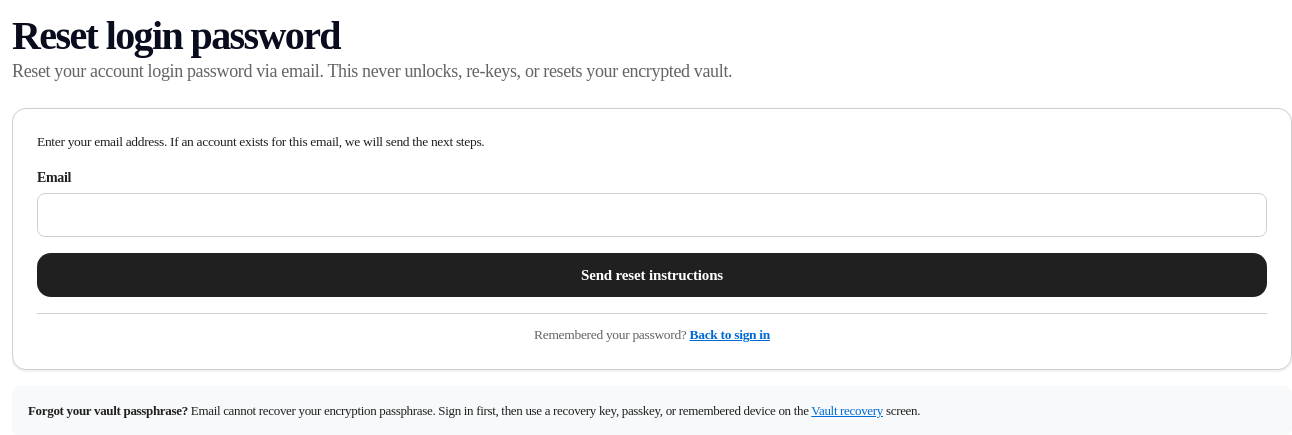
ForgotPasswordForm states and problem-code mapping (ADR 0006 §9.2) › switches to mail_unavailable view on 503 mail_delivery_unavailable
The width and height of the screenshot is (1292, 435).
Type "user@example.com" into the field labelled "Email" at (652, 215), box [37,193,1267,237]
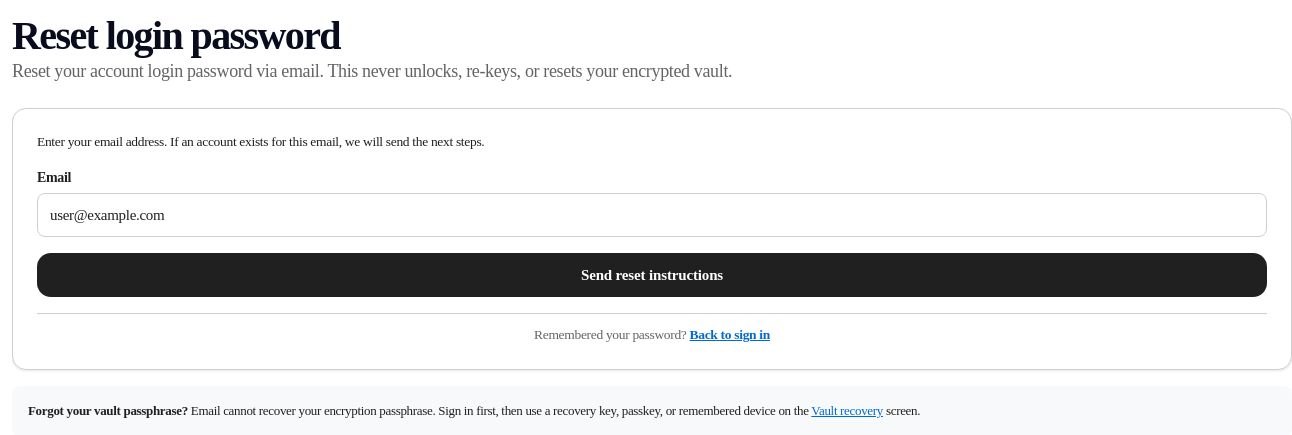
Submit the form labelled "email", box [12,108,1291,370]
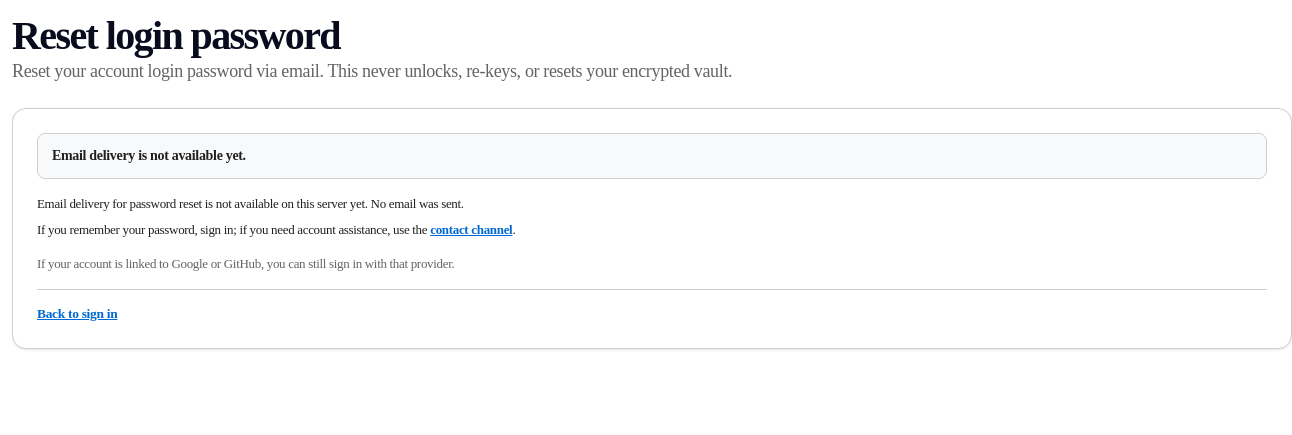
Check: the element with test id "forgot-unavailable" is shown, box [12,108,1291,349]
